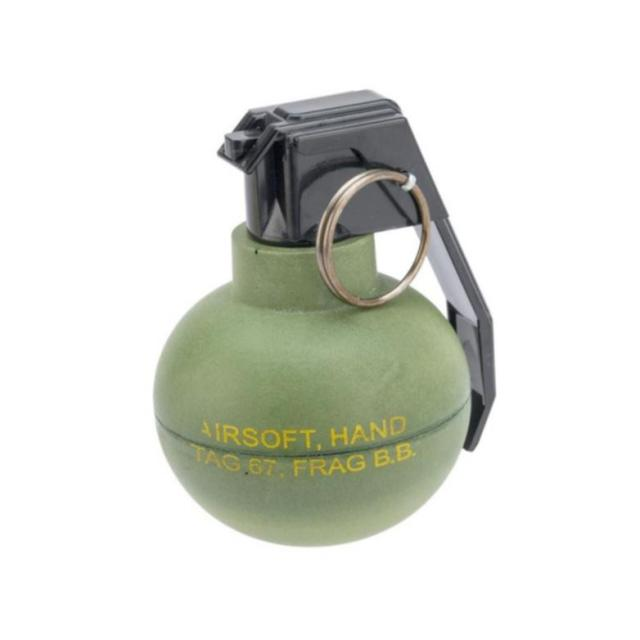grenade: (155, 91, 498, 550)
